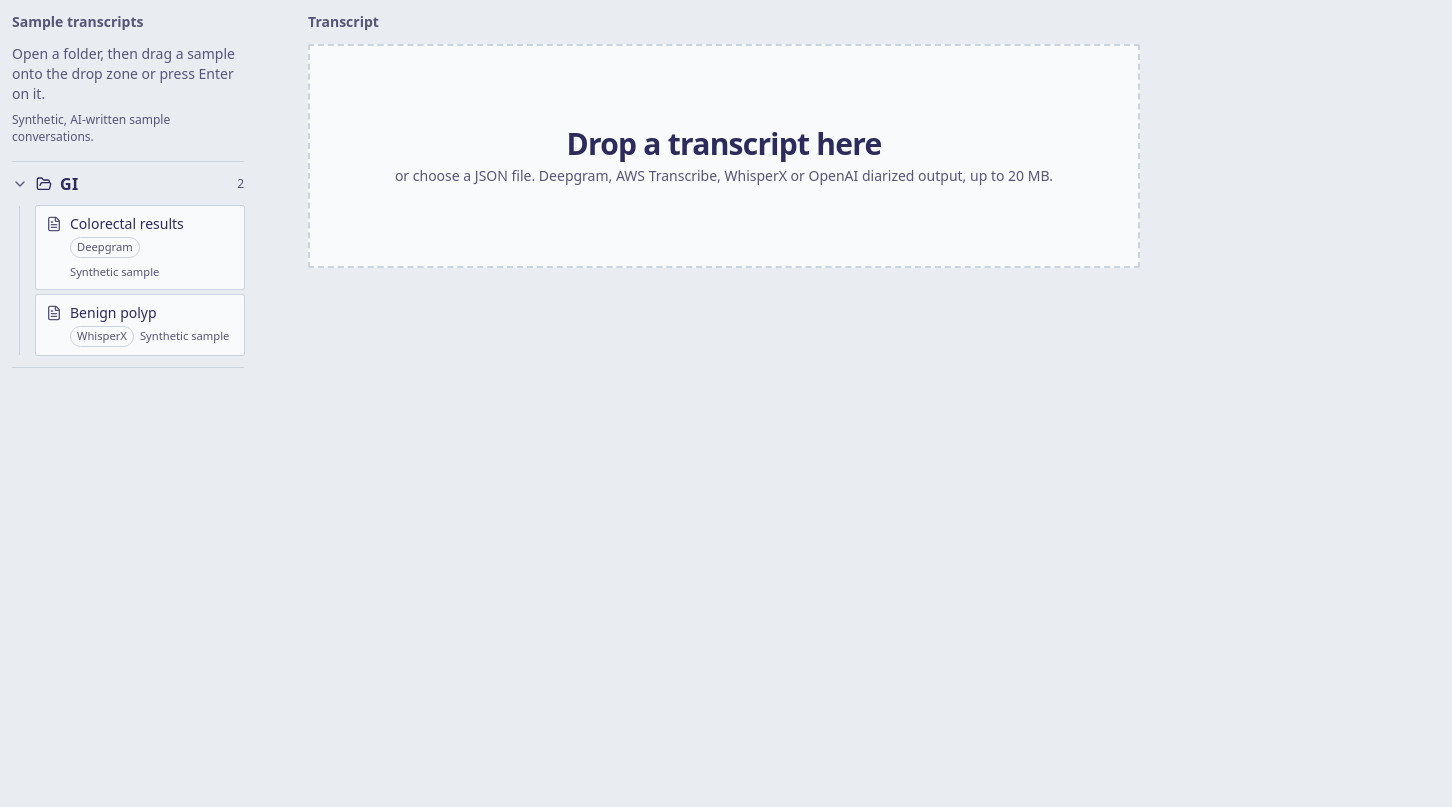
Scenario: TranscriptDrop with sample transcripts › imports a clicked sample: fetches its file, then posts it like an upload
Click the button "Colorectal results Deepgram Synthetic sample" at coordinates (140, 247), box 36,206 -> 244,289
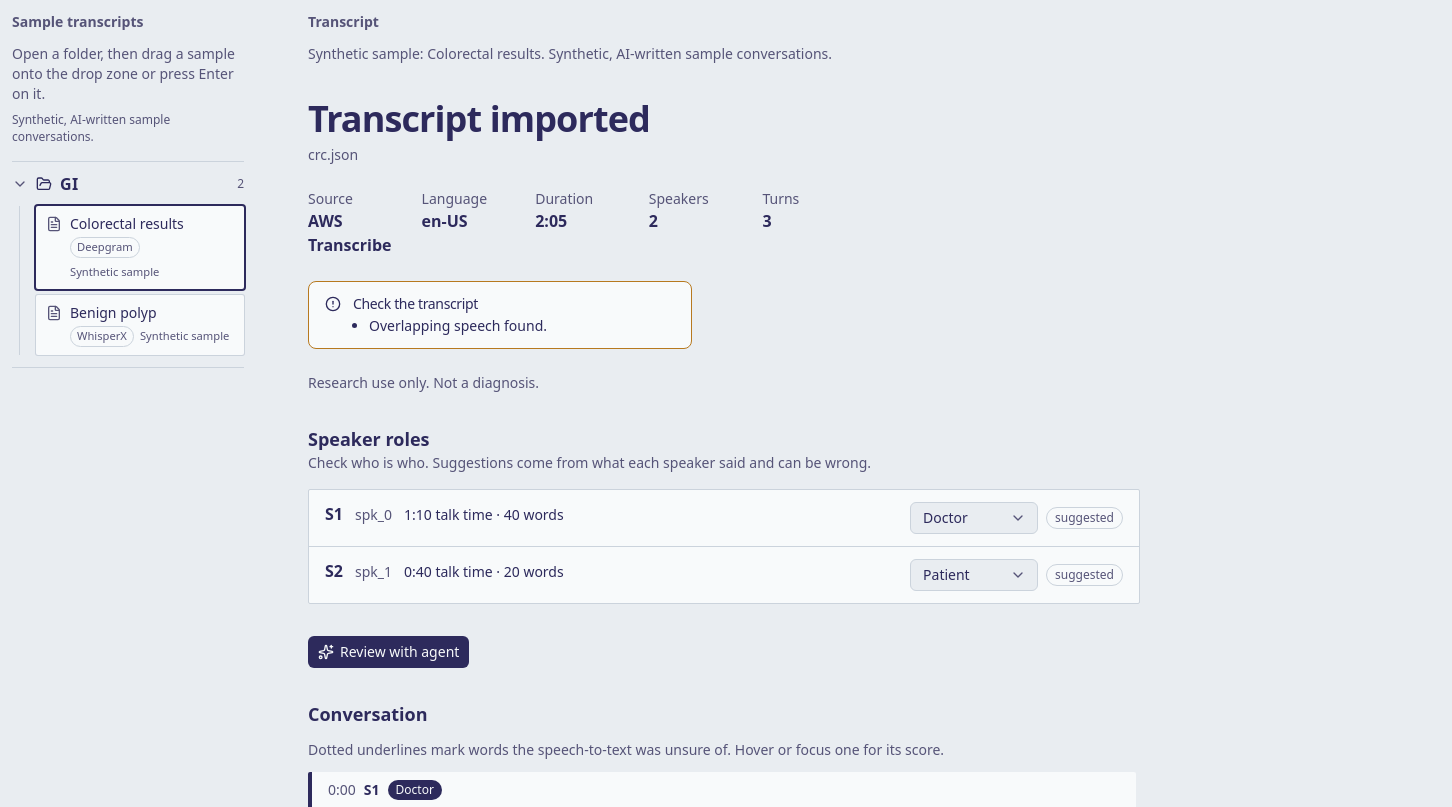
Expected: the element with test id "transcript-summary" shows "crc.json", 308,145 -> 358,164
Expected: the text with test id "sample-notice" shows "Synthetic sample: Colorectal results", 308,44 -> 832,63
